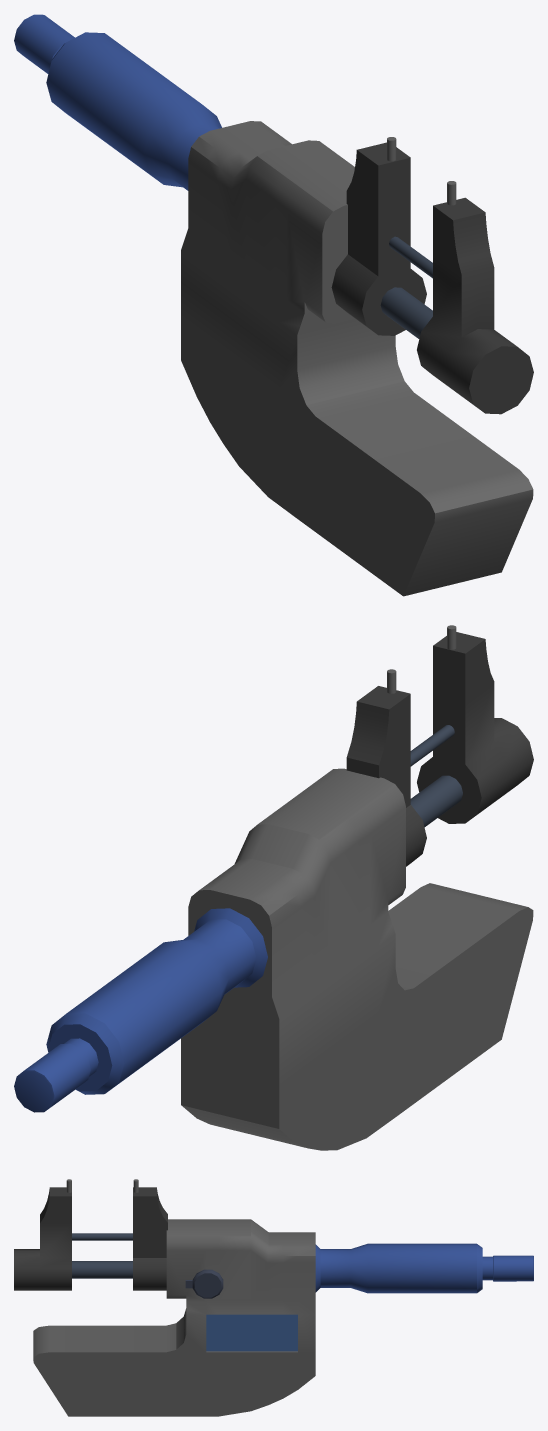
File: Radiusometr0.fbx
3 views of the same model, one above another, from view 1: azimuth 30°, elevation 25°; view 2: azimuth 150°, elevation 25°; view 3: azimuth 270°, elevation 25° (orthographic). The views are drawn at different scales.
Parts seen in each view (by area): view 1: Radiusometr, Resistor, Part2, Part1, Cylind2, Cylind1; view 2: Radiusometr, Resistor, Part2, Part1, Cylind2, Cylind1; view 3: Radiusometr, Resistor, Part2, Part1, Cylind2, Pimka, Cylind1.
Part boxes in pixels (<box>): Radiusometr: <box>181,121,533,596</box>; Resistor: <box>14,14,221,190</box>; Part2: <box>417,181,533,414</box>; Part1: <box>331,137,426,335</box>; Cylind2: <box>380,287,432,338</box>; Cylind1: <box>389,236,432,278</box>; Radiusometr: <box>181,768,533,1150</box>; Resistor: <box>14,908,267,1112</box>; Part2: <box>417,625,533,823</box>; Part1: <box>346,669,426,866</box>; Cylind2: <box>410,775,462,827</box>; Cylind1: <box>410,725,454,766</box>; Radiusometr: <box>33,1219,315,1416</box>; Resistor: <box>315,1243,533,1293</box>; Part2: <box>14,1179,71,1290</box>; Part1: <box>133,1179,167,1290</box>; Cylind2: <box>72,1261,132,1278</box>; Pimka: <box>185,1269,223,1298</box>; Cylind1: <box>72,1233,132,1240</box>.
Bounding box in the file's own units: 88.41 × 344 × 728.
